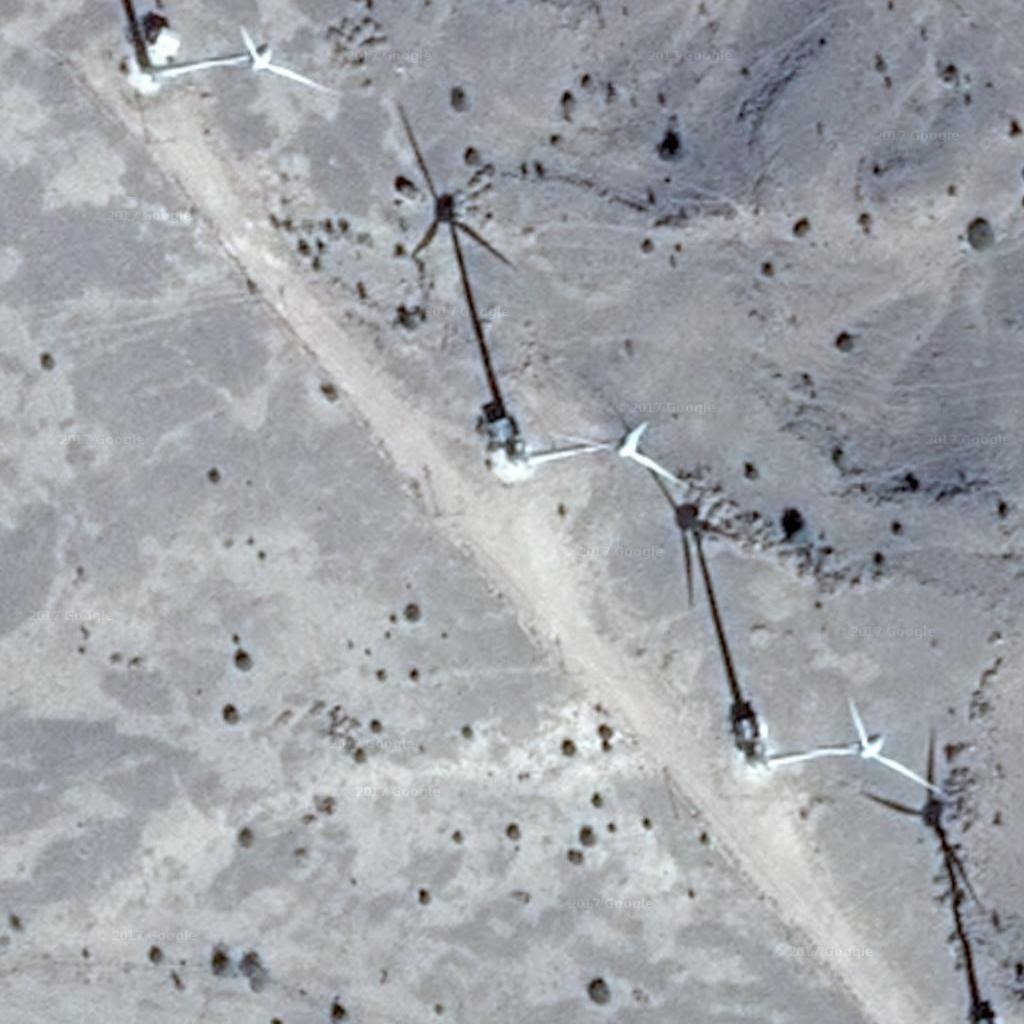Windmill: (386, 104, 537, 438)
